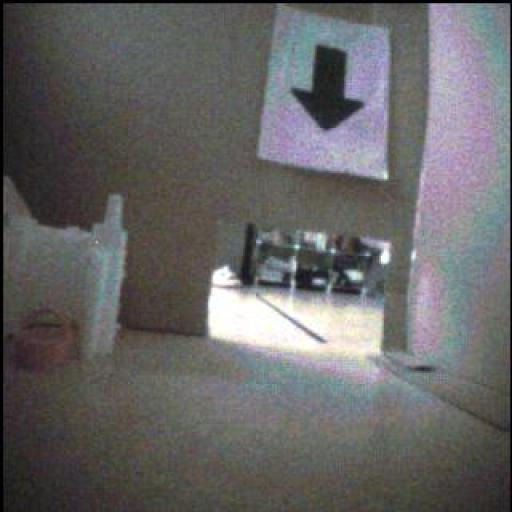arrow: (292, 48, 364, 131)
